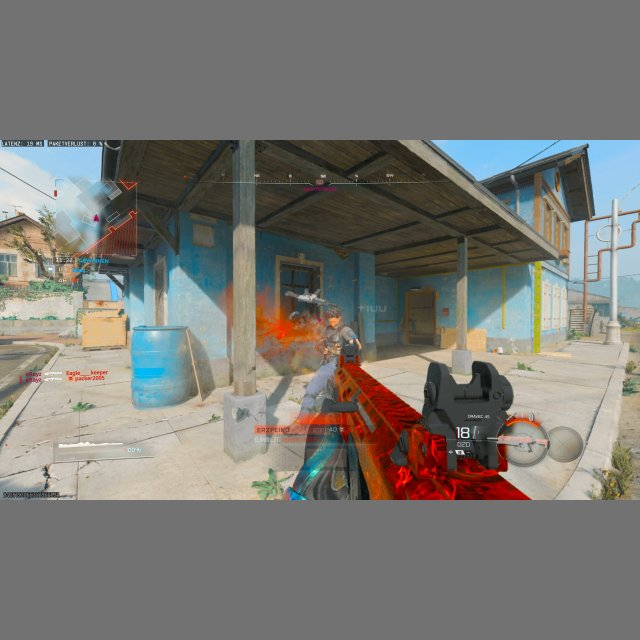head: (324, 305, 342, 328)
player: (288, 354, 364, 499), (314, 303, 362, 366)
